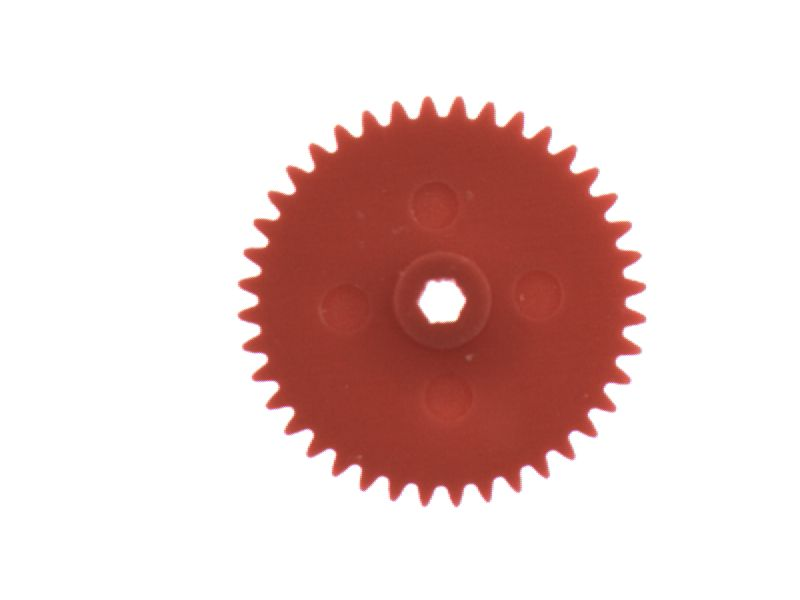good_product: (228, 87, 657, 515)
